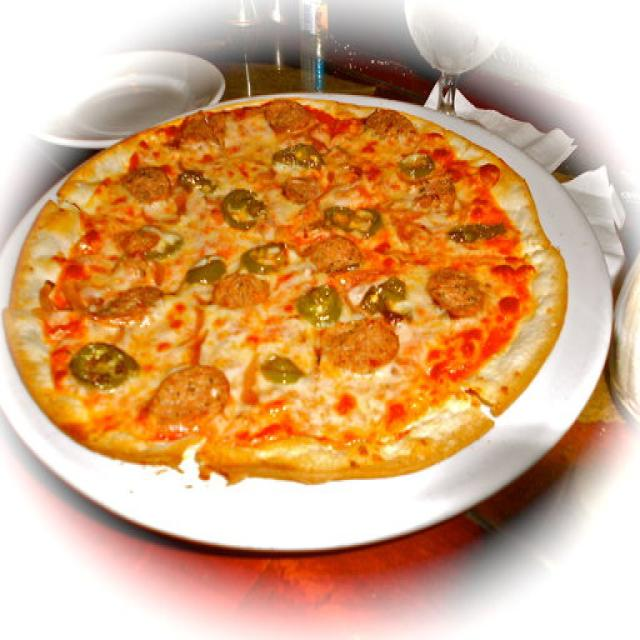Jalapenoes: (75, 340, 134, 390), (326, 199, 378, 236), (276, 139, 322, 171), (244, 242, 287, 272), (302, 286, 335, 324), (264, 356, 304, 384), (226, 188, 258, 223), (149, 225, 183, 256), (450, 222, 508, 240), (402, 147, 433, 180), (183, 167, 215, 191), (189, 260, 223, 276)
Pepperoni: (154, 366, 228, 430), (425, 266, 484, 322), (334, 324, 398, 365), (307, 236, 363, 272), (121, 163, 171, 202), (215, 276, 269, 306), (263, 96, 305, 128)
Pizza: (6, 95, 568, 479)
